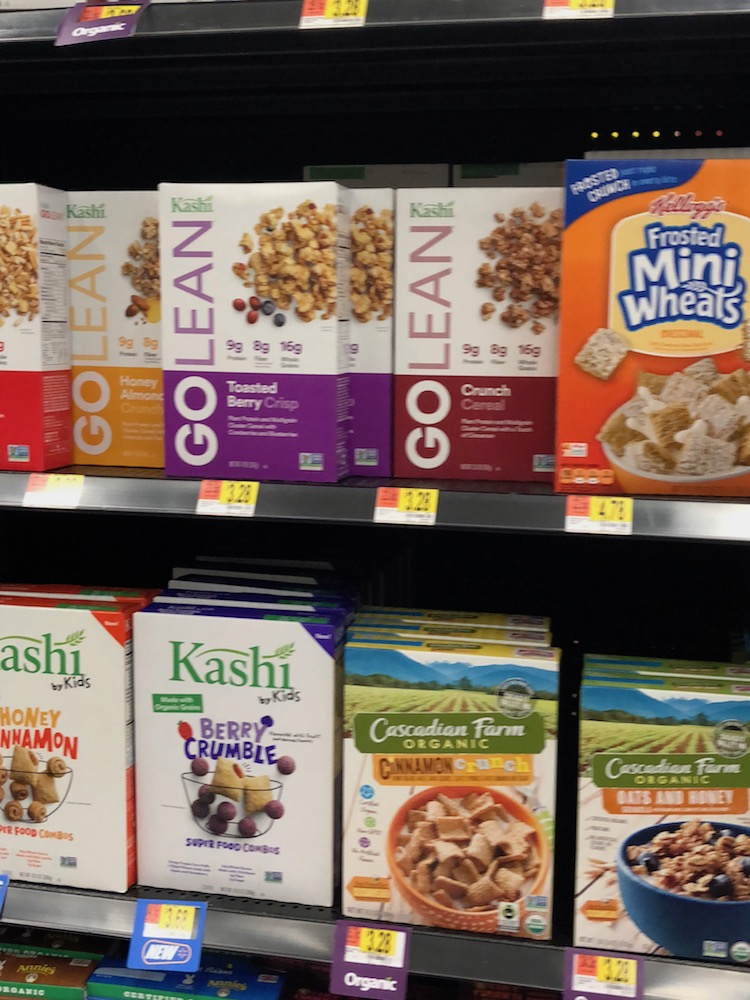Frosted Mini Original -9295869: (553, 157, 750, 480)
